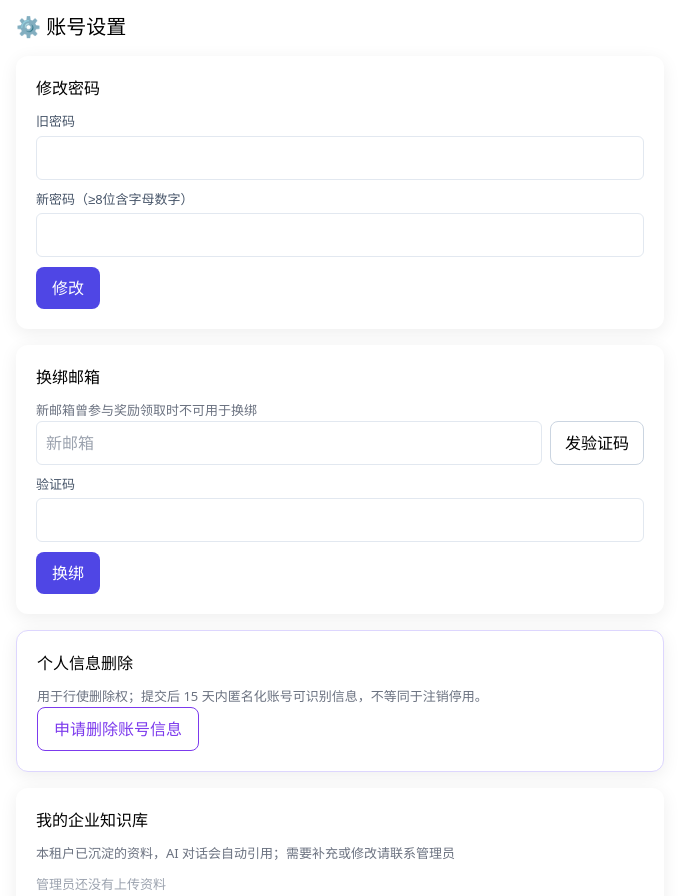
it: AppSettings 个人信息删除 › 成员可提交账号 PII 删除请求
What coordinates should you click on to do the following:
click the button "申请删除账号信息"
I would click on:
 (118, 728)
Its box is [37,706,199,750].
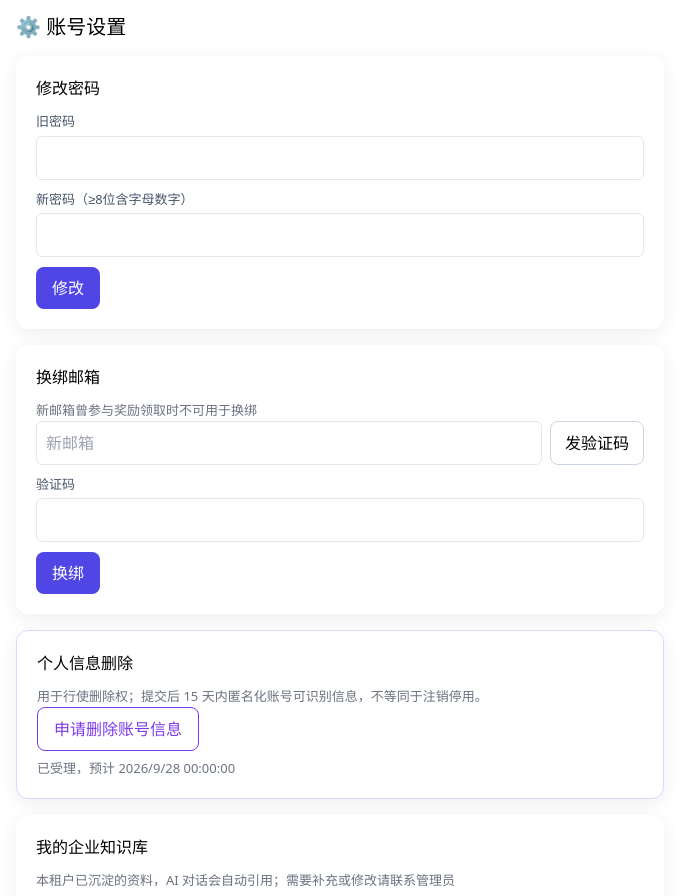
Check: the text "已受理，预计 2026/9/28 00:00:00" is shown, box [37,758,235,776]
